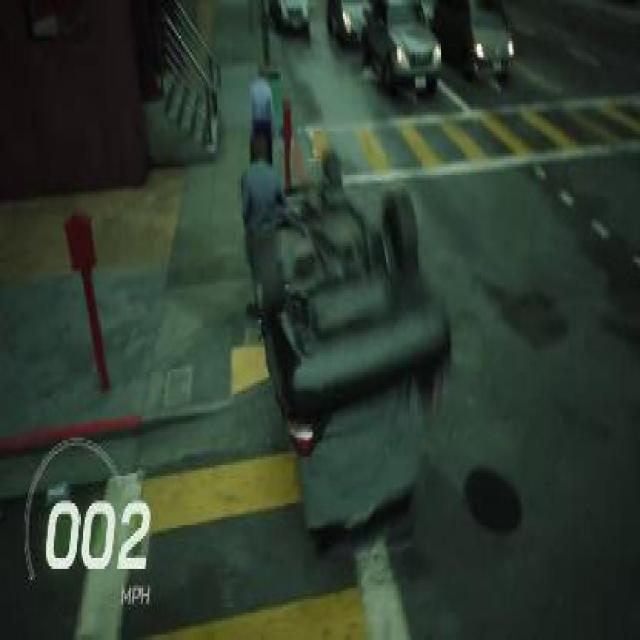accident: (237, 142, 455, 564)
